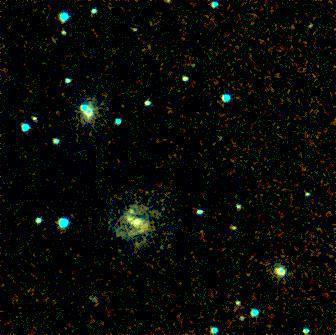star: (117, 200, 147, 230)
